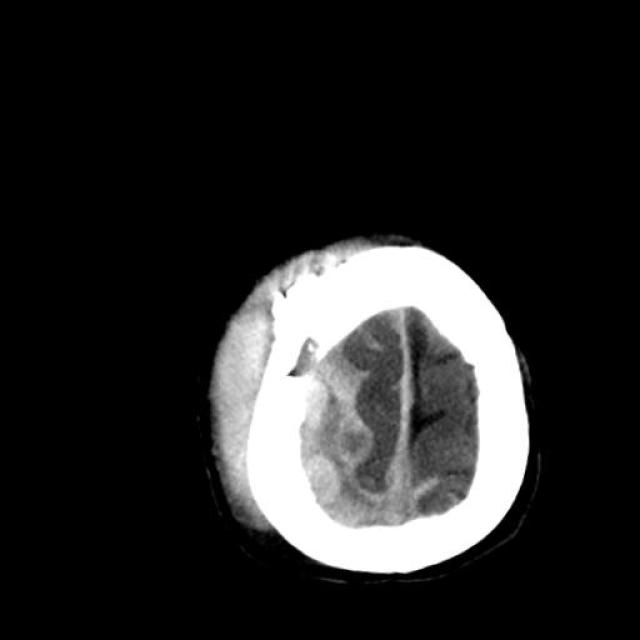Subdural: (368, 300, 433, 548)
